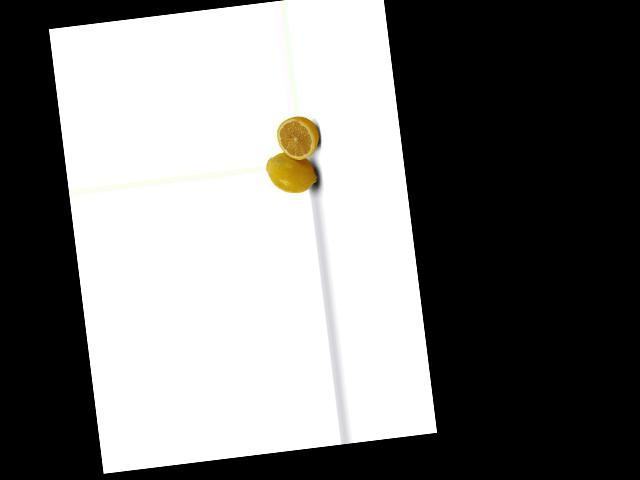lemon: (263, 146, 321, 199)
